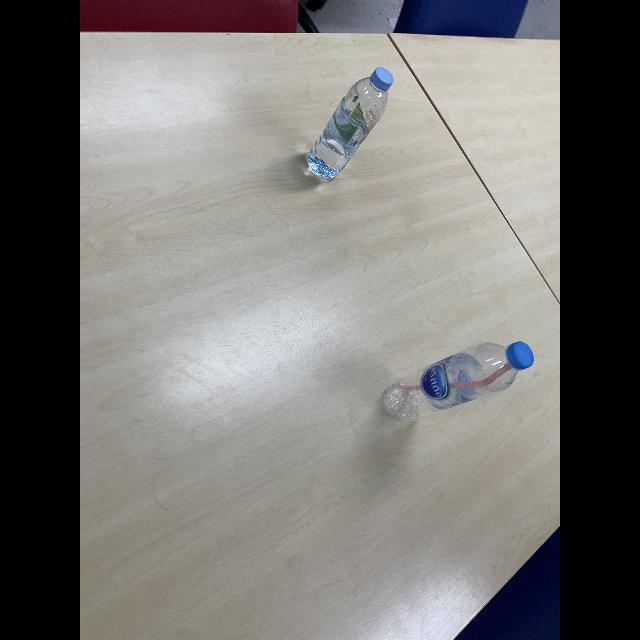plastic_bottle: (381, 338, 534, 422), (306, 68, 394, 184)
